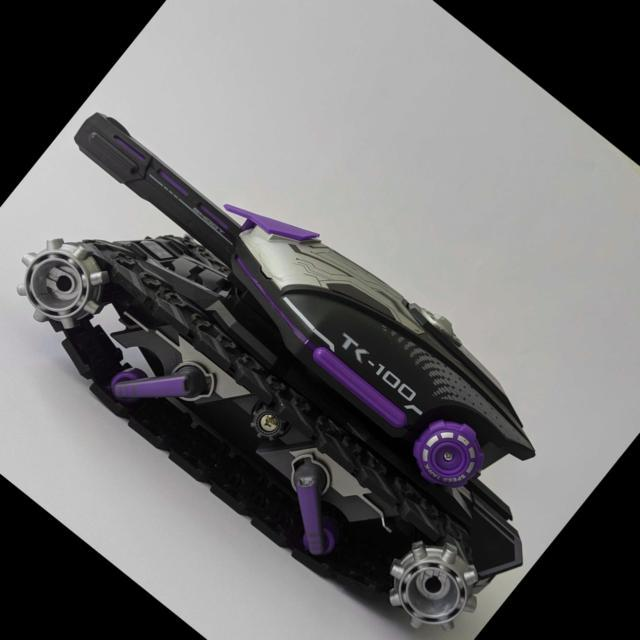barrel: (73, 111, 241, 267)
